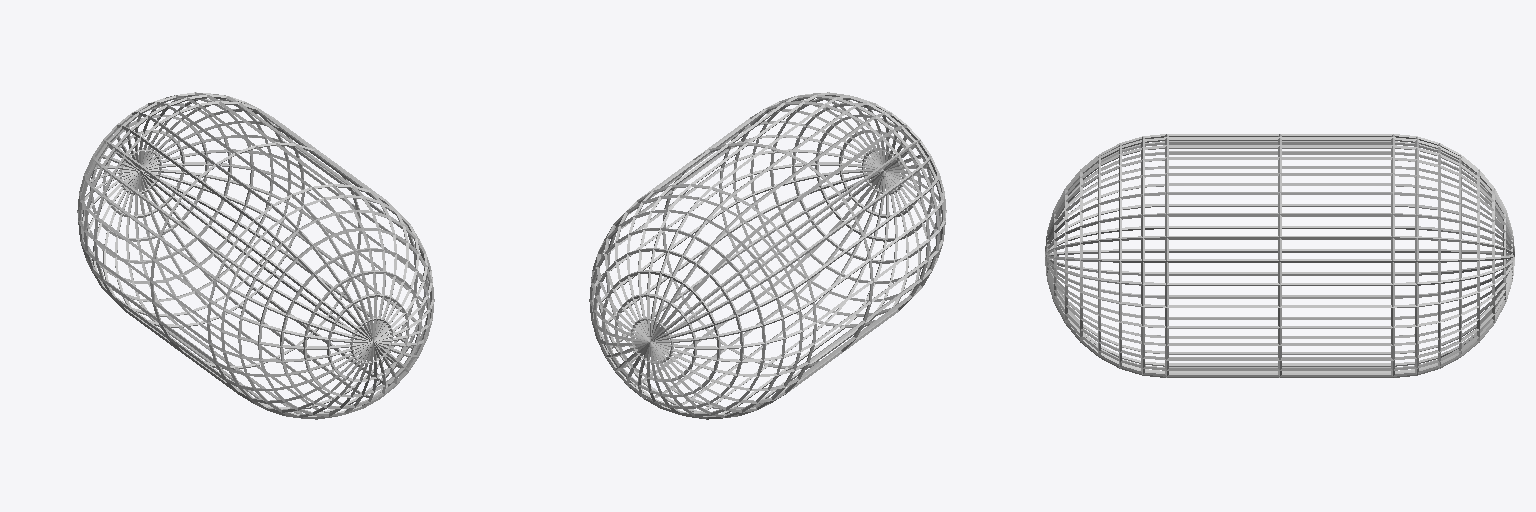
File: CapsuleWireframe.obj
3 views of the same model, side by side, from view 1: azimuth 30°, elevation 25°; view 2: azimuth 150°, elevation 25°; view 3: azimuth 270°, elevation 25° (orthographic).
Parts seen in each view (by area): view 1: Sphere; view 2: Sphere; view 3: Sphere.
Boxes of the visible parts, <box> form: Sphere: <box>77,92,434,419</box>; Sphere: <box>589,92,946,419</box>; Sphere: <box>1045,134,1514,377</box>.
Size of the model in its own units: 100 by 100 by 193.